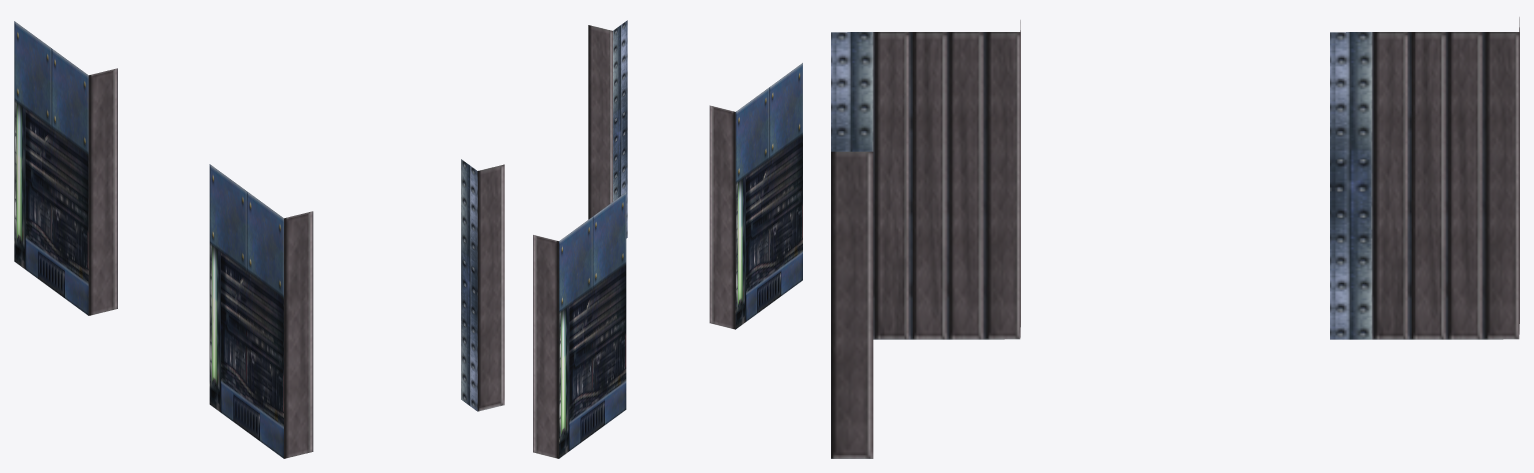
File: doorframe03.glb
3 renders of one model, left to right at view 1: azimuth 30°, elevation 25°; view 2: azimuth 150°, elevation 25°; view 3: azimuth 270°, elevation 25°, orthographic. The views are drawn at different scales.
Parts seen in each view (by area): view 1: doorframe03; view 2: doorframe03; view 3: doorframe03.
Part boxes in pixels (x1,y1,x2,y2): doorframe03: (14,21,504,458); doorframe03: (533,20,802,458); doorframe03: (831,17,1519,458).
Size of the model in its own units: 675 by 703 by 1428.
Materials: 2 (2 with a texture image).
